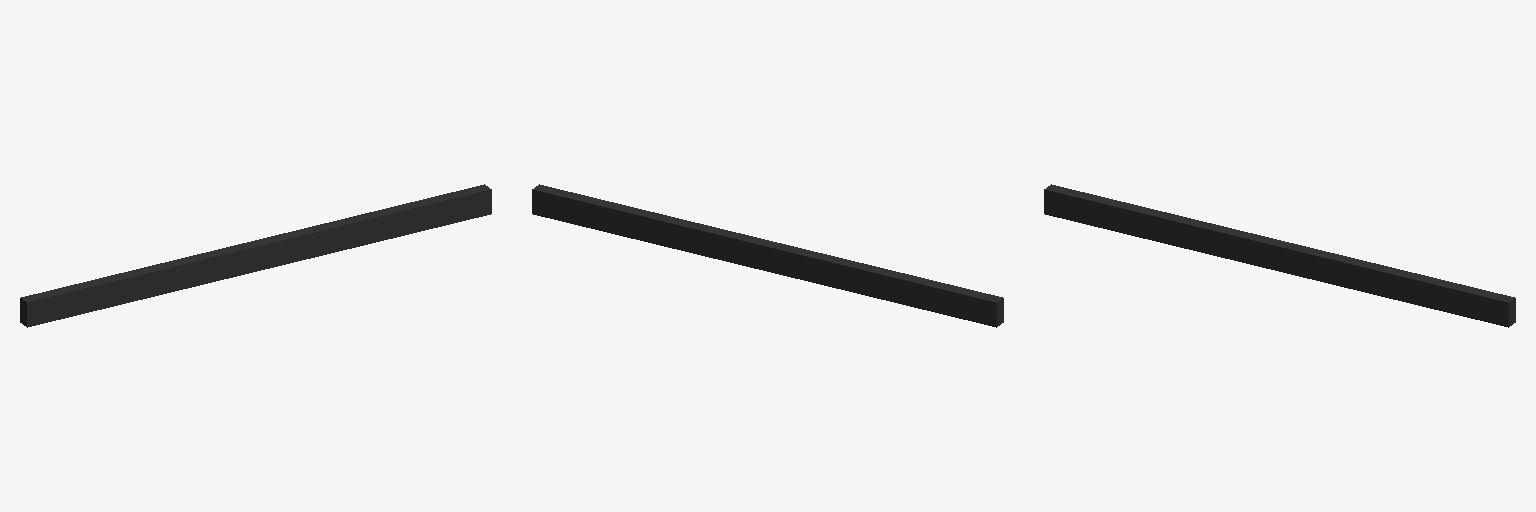
The robot description file, URDF, robot "wall":
<robot name="wall">
  <link name="baseLink">
   
    <inertial>
      <origin rpy="0 0 0" xyz="0 0 0" />
       <mass value="10" />
       <inertia ixx="0" ixy="0" ixz="0" iyy="0" iyz="0" izz="0" />
    </inertial>
    <visual>
      <origin rpy="0 0 0" xyz="0 0 0" />
      <geometry>
			  <box size="3.9 0.1 0.2" />
      </geometry>
       <material name="grey">
        <color rgba="0.24 0.24 0.24 1" />
      </material>
    </visual>
    <collision>
      <origin rpy="0 0 0" xyz="0 0 0" />
      <geometry>
	 	      <box size="3.9 0.1 0.2" />
      </geometry>
    </collision>
  </link>
</robot>

--- What the picture shows (computed from the rendered views, not written in the file) ---
3 views of the same robot in one strip: view 1: azimuth 30°, elevation 25°; view 2: azimuth 150°, elevation 25°; view 3: azimuth 330°, elevation 25° (orthographic).
Model wall with 1 links and 0 joints (none), rooted at baseLink, posed every joint at zero.
Visible links, largest first — view 1: baseLink; view 2: baseLink; view 3: baseLink.
Boxes of the visible links, box(x1,y1,x2,y2) form: baseLink: box(20, 184, 491, 327); baseLink: box(532, 184, 1003, 327); baseLink: box(1044, 184, 1515, 327).
Size in the robot's own frame: 3.9 by 0.1 by 0.2 metres.
Geometry: primitives only (box / cylinder / sphere), no mesh files.
